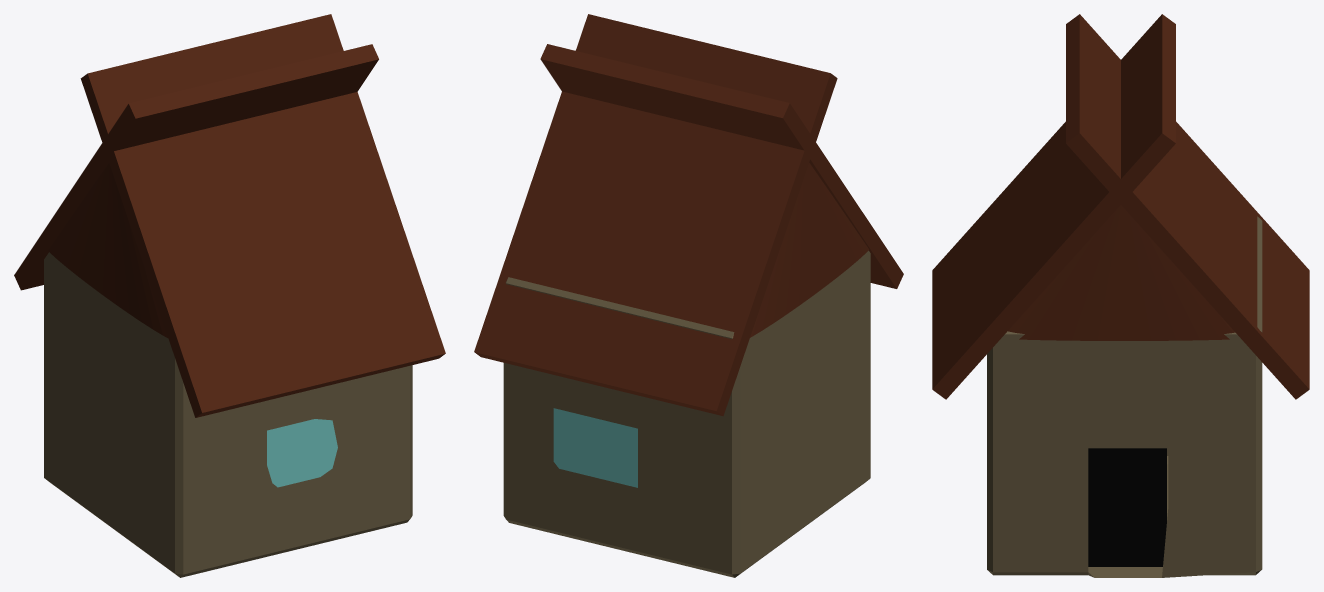
The model's file is Hut.fbx.
3 renders of one model, left to right at view 1: azimuth 30°, elevation 25°; view 2: azimuth 150°, elevation 25°; view 3: azimuth 270°, elevation 25°, orthographic.
Visible parts, largest first — view 1: Cube.002, Cube, Cube.001, Cone.001, Plane.001; view 2: Cube.001, Cube, Cube.002, Cone.001, Plane.002; view 3: Cube, Cube.002, Cube.001, Cone, Plane.
Part boxes in pixels (<box>): Cube.002: <box>80,14,445,417</box>; Cube: <box>44,252,412,577</box>; Cube.001: <box>14,44,378,290</box>; Cone.001: <box>48,163,167,337</box>; Plane.001: <box>267,419,337,487</box>; Cube.001: <box>474,14,837,416</box>; Cube: <box>503,250,870,577</box>; Cube.002: <box>540,44,903,288</box>; Cone.001: <box>750,163,868,337</box>; Plane.002: <box>553,408,637,487</box>; Cube: <box>987,216,1262,577</box>; Cube.002: <box>932,14,1175,399</box>; Cube.001: <box>1066,14,1309,399</box>; Cone: <box>1008,205,1234,340</box>; Plane: <box>1088,448,1166,566</box>.
Size of the model in its own units: 400 by 687 by 527.
